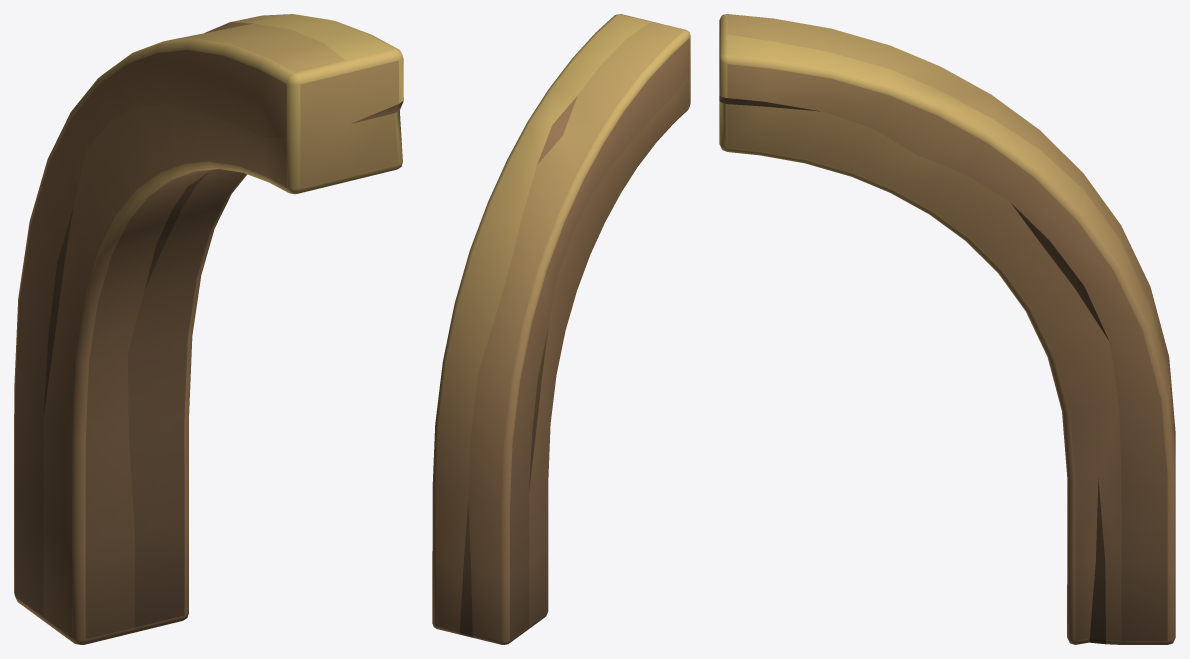
The model's file is tavern_wooden_arch_1.fbx.
The picture shows the model from 3 angles, left to right: view 1: azimuth 30°, elevation 25°; view 2: azimuth 150°, elevation 25°; view 3: azimuth 270°, elevation 25°; orthographic projection. The views are drawn at different scales.
Parts seen in each view (by area): view 1: tavern_wooden_arch_1_LOD0; view 2: tavern_wooden_arch_1_LOD0; view 3: tavern_wooden_arch_1_LOD0.
Part boxes in pixels (x1,y1,x2,y2): tavern_wooden_arch_1_LOD0: (14,14,403,644); tavern_wooden_arch_1_LOD0: (432,14,690,644); tavern_wooden_arch_1_LOD0: (719,14,1175,644).
Size of what is drawn, in the model's own units: 56.14 by 324 by 227.
